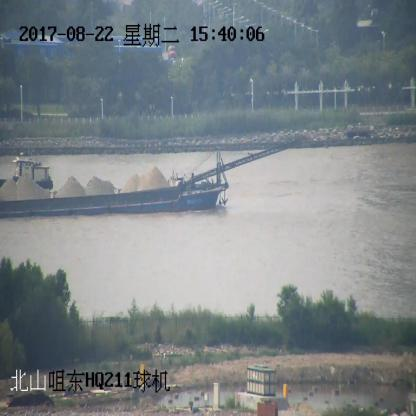Fishing Boat: (0, 155, 54, 196)
